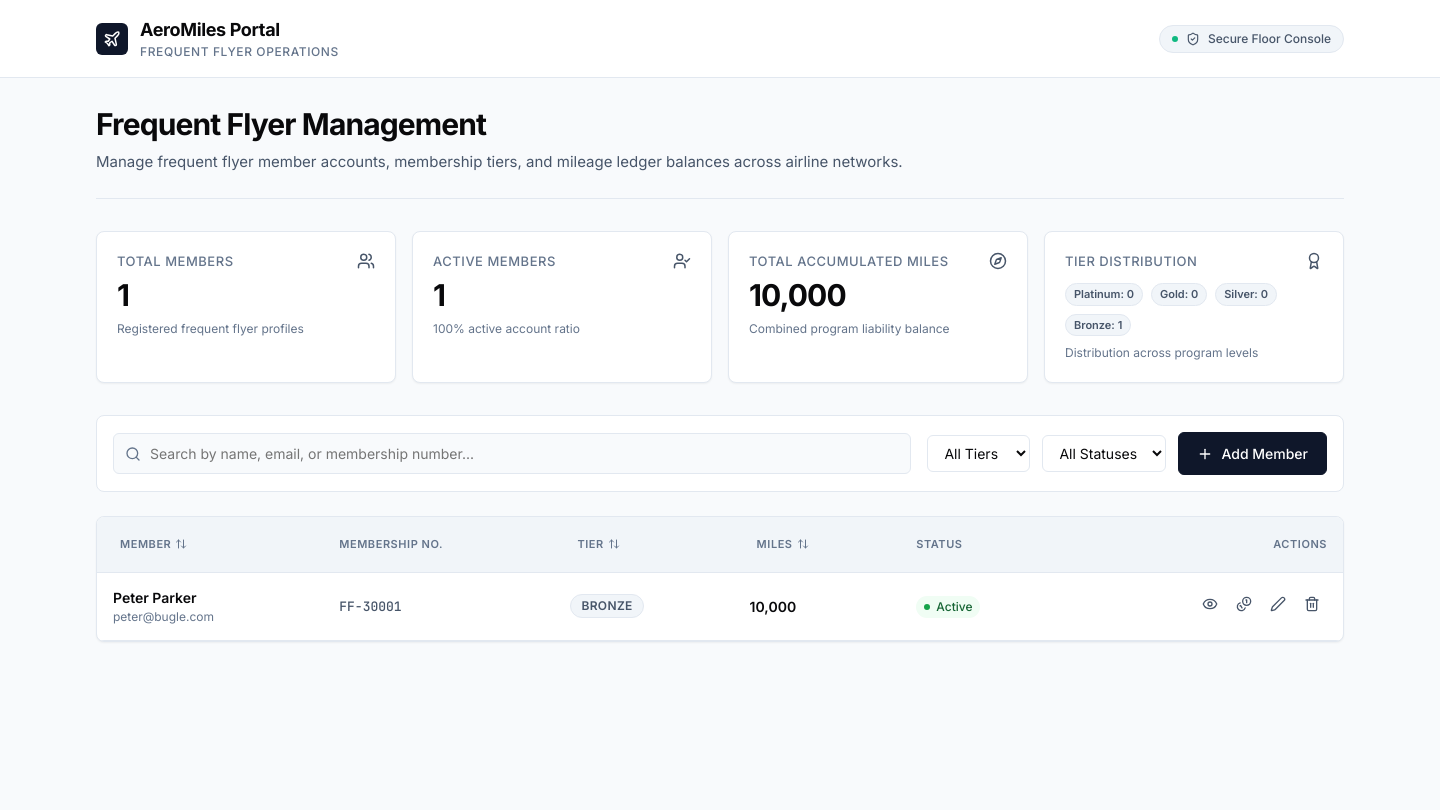
Test: Happy-Path Tests (TRD Section 9) › 8. Supported miles transactions (Earn and Redeem) update balances correctly
Click the button named "manage miles for peter parker".
click(1244, 606)  # box [1229, 588, 1259, 624]
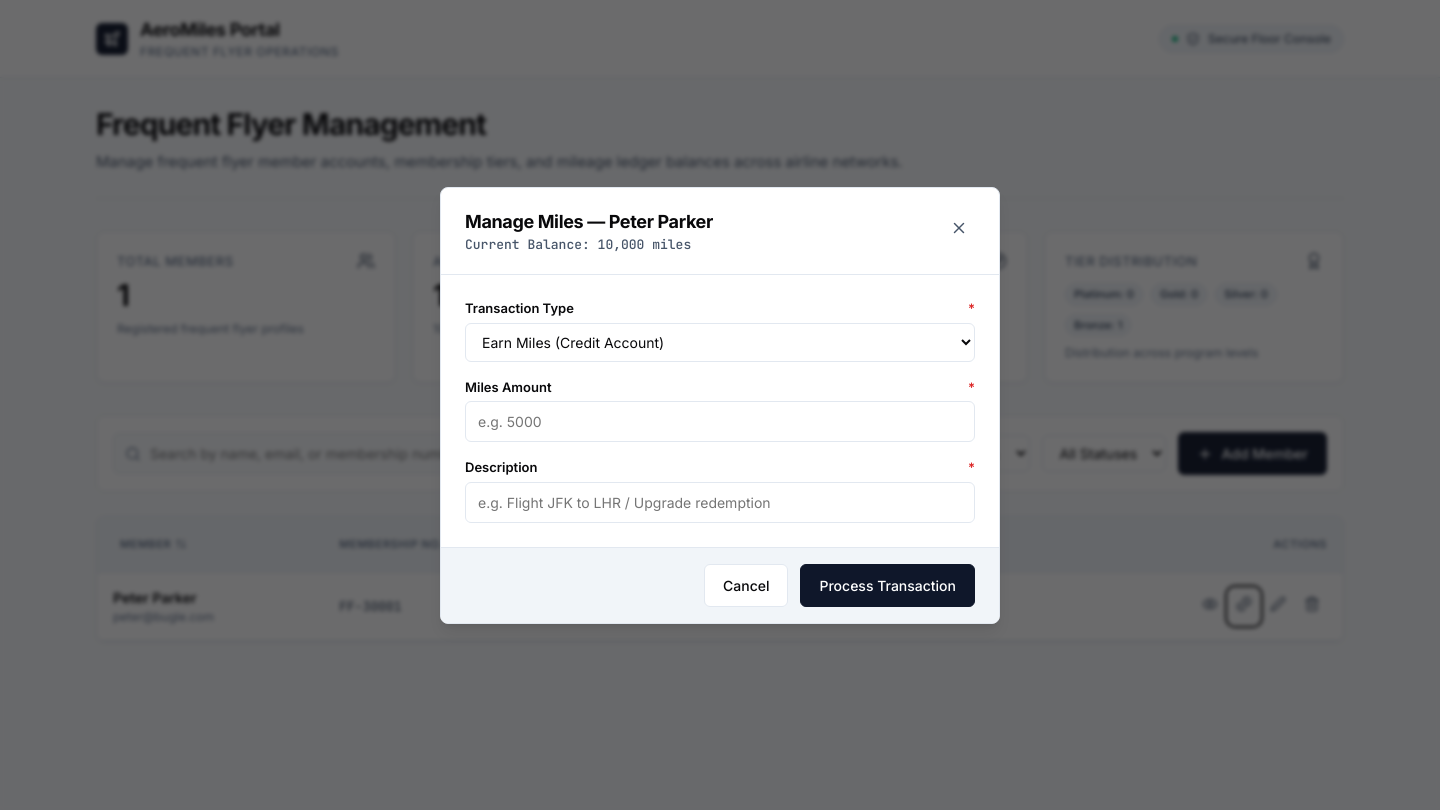
expect the heading "Manage Miles — Peter Parker" is shown: met, box [465, 208, 713, 234]
// Earn 5,000 miles
Select "Earn Miles (Credit Account)" in the dropdown labelled "Transaction Type *" at (720, 342), box [465, 322, 975, 362]
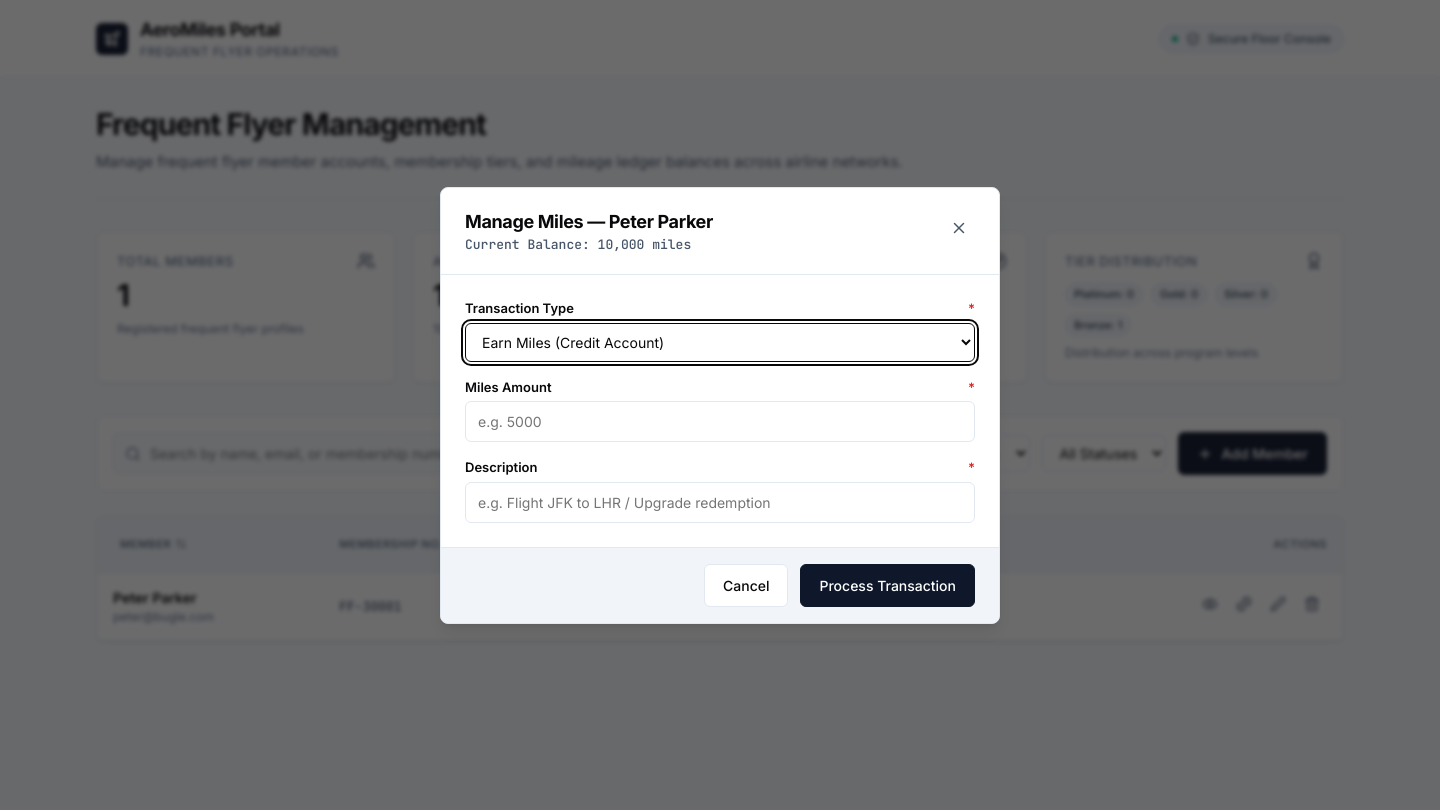
Type "5000" into the number field labelled "Miles Amount *".
click(720, 422); type("5000")  # box [465, 401, 975, 442]
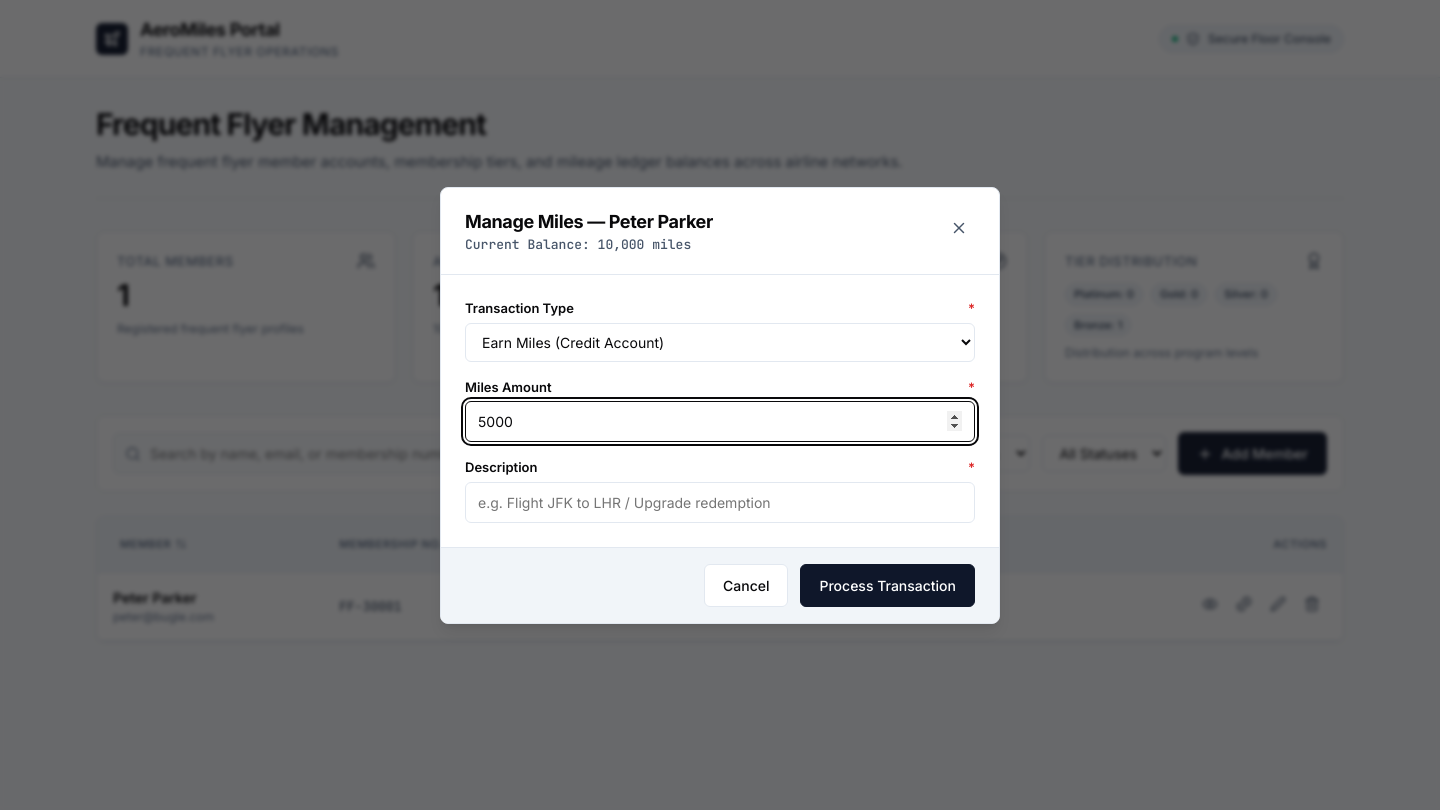
Type "Flight NYC to SFO" into the field labelled "Description *".
click(720, 502); type("Flight NYC to SFO")  # box [465, 482, 975, 522]
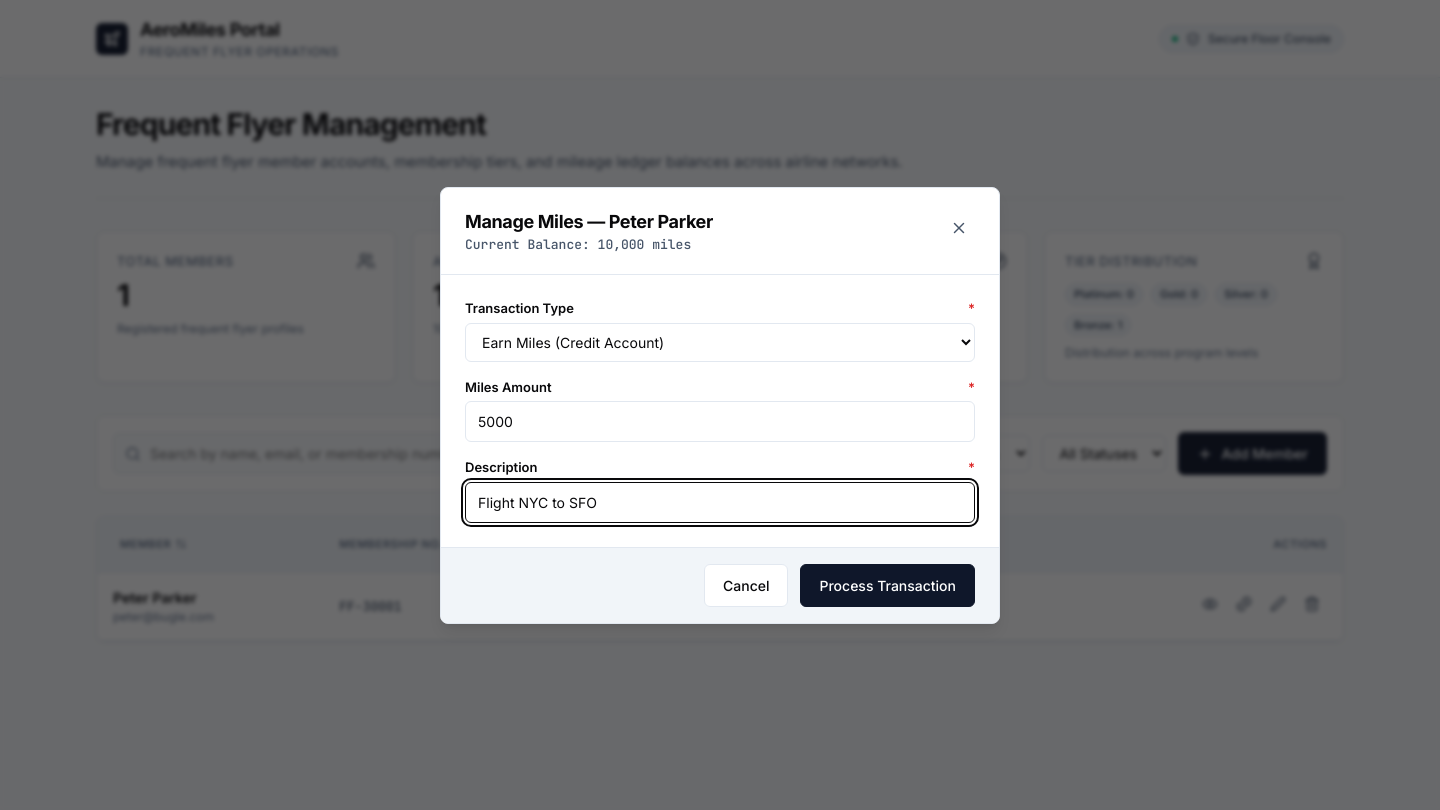
Click the button "Process Transaction".
click(888, 585)  # box [800, 564, 975, 606]
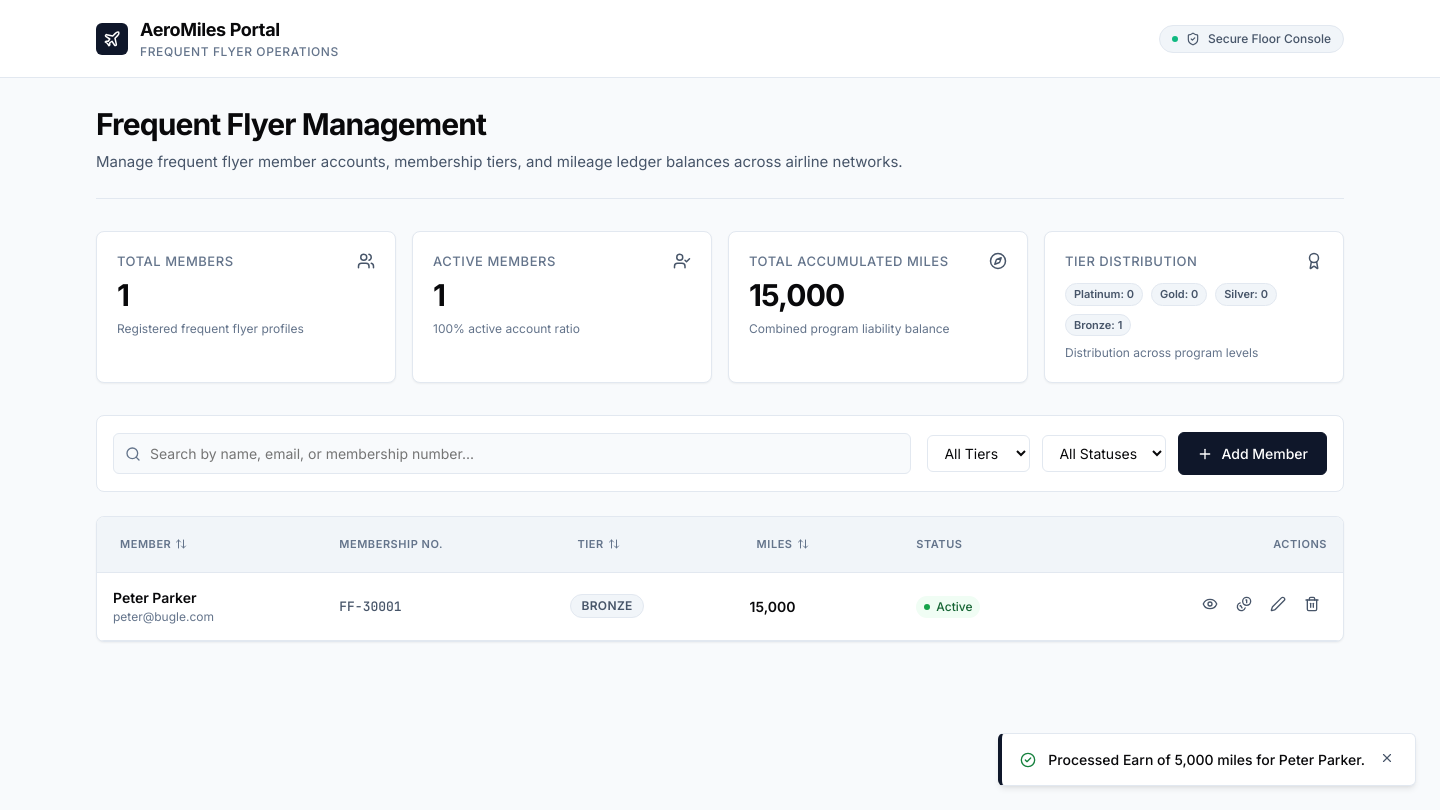
expect the dialog is gone: met
expect the text "15,000" in the row of "peter@bugle.com" is shown: met, box [750, 598, 796, 614]
